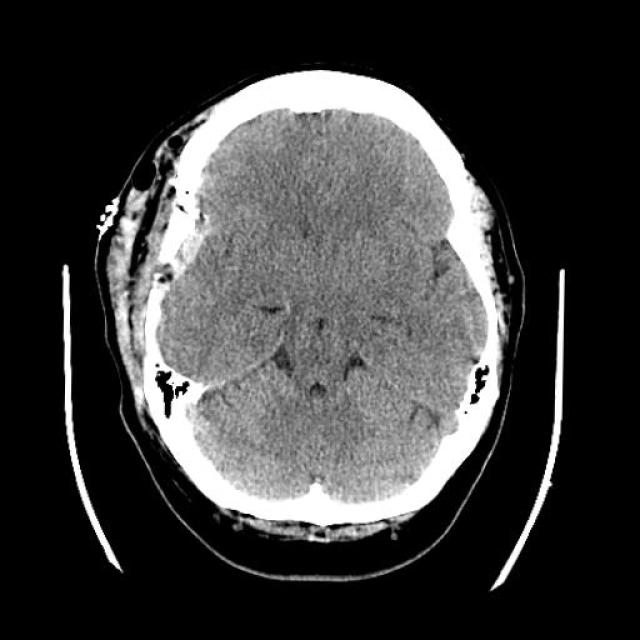Subdural: (112, 223, 210, 381)
